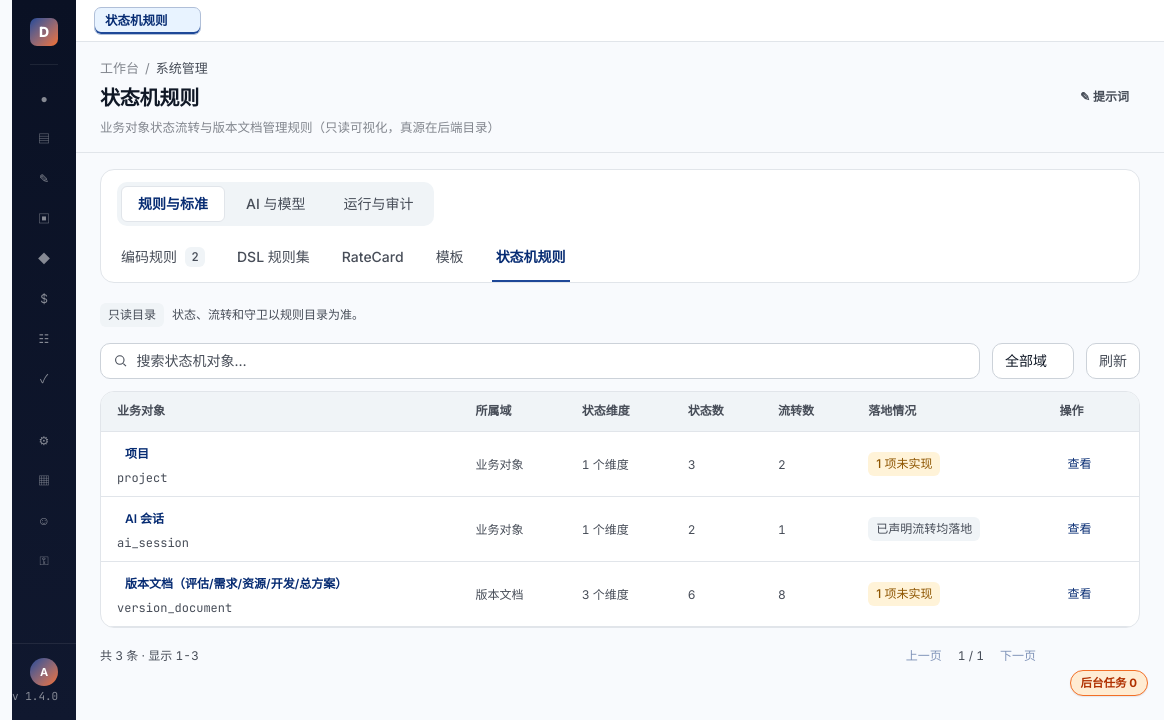
系统管理 · 状态机规则可视化页 › 无结果可重置关键词与域筛选，恢复全部对象
The width and height of the screenshot is (1164, 720).
Expected: the table named "状态机对象列表" is shown, [101,392,1139,627]
Select "版本文档" in the dropdown named "筛选状态机对象" at (1033, 360), box [992,342,1074,378]
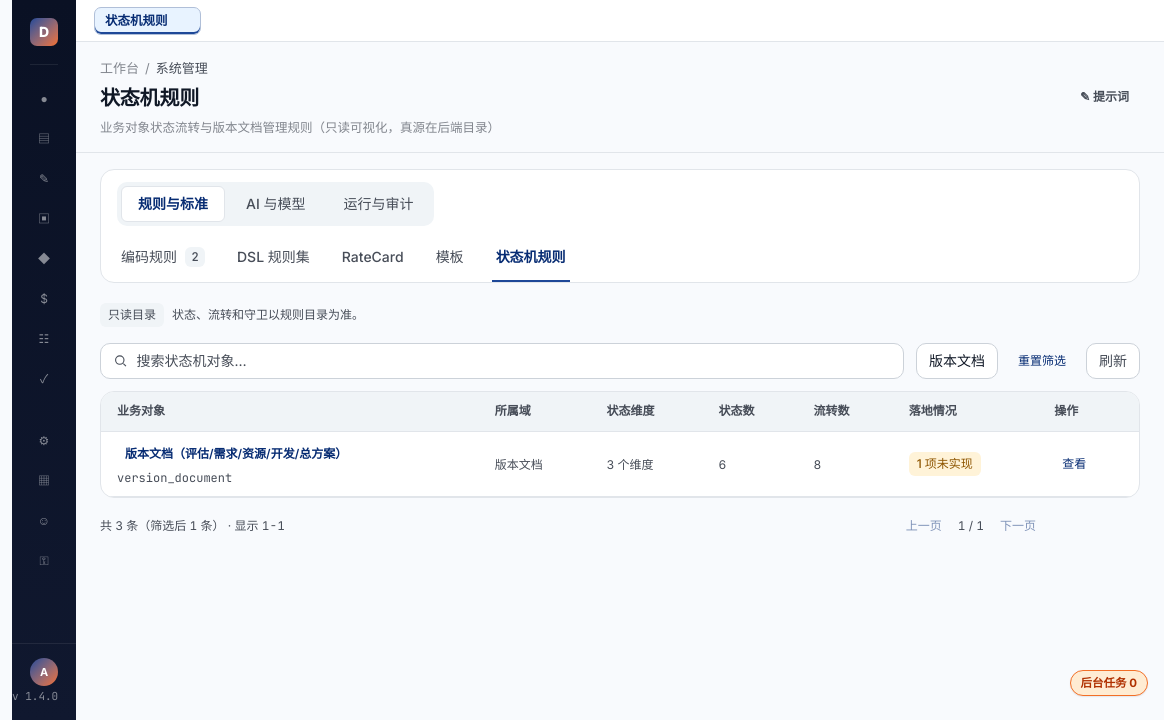
Type "不存在的对象" into the search field labelled "搜索状态机对象" at (514, 360), box [136,344,891,378]
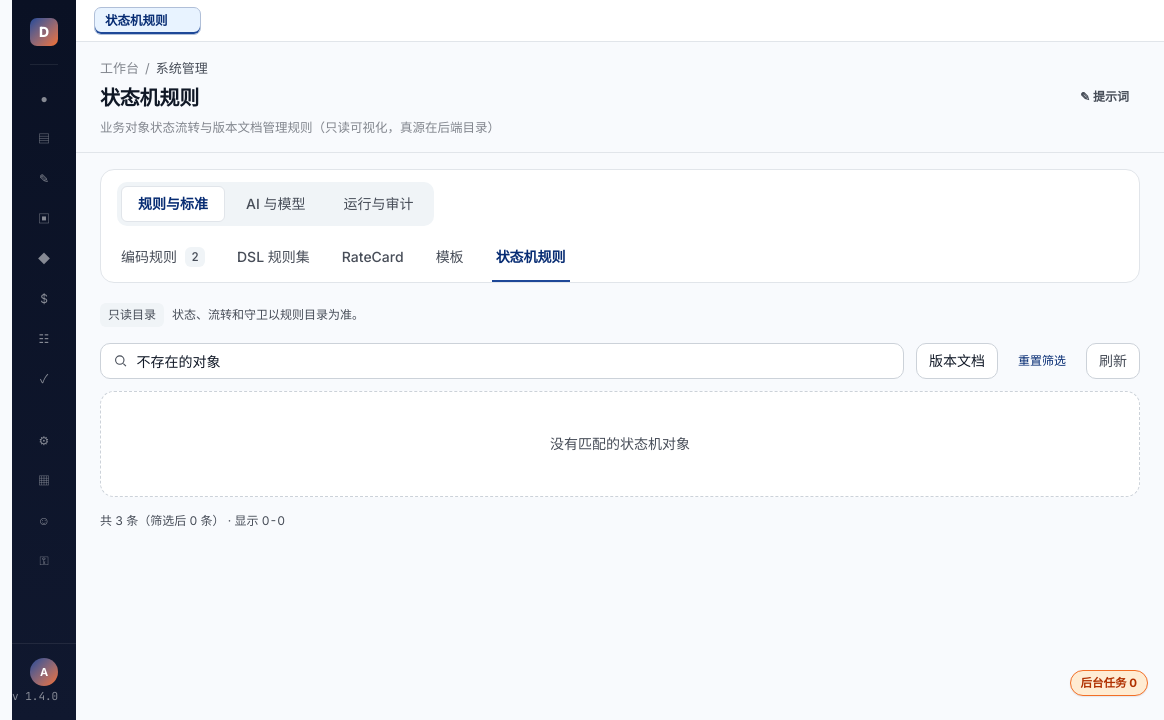
Expected: the text "没有匹配的状态机对象" is shown, [100,390,1140,496]
Click the button "重置筛选" at (1042, 360), box [1010,344,1074,376]
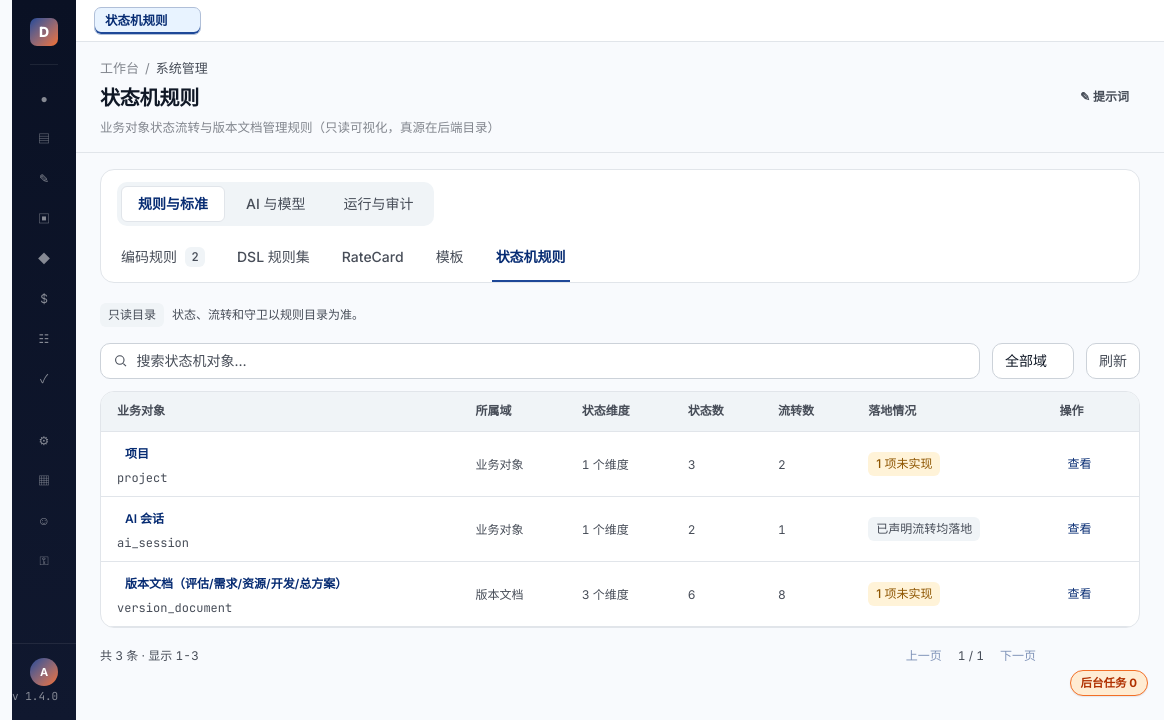
Expected: the search field labelled "搜索状态机对象" is empty, [137,344,967,378]
Expected: the number of rows is 4, [101,392,1139,432]; [101,432,1139,496]; [101,496,1139,562]; [101,562,1139,626]
